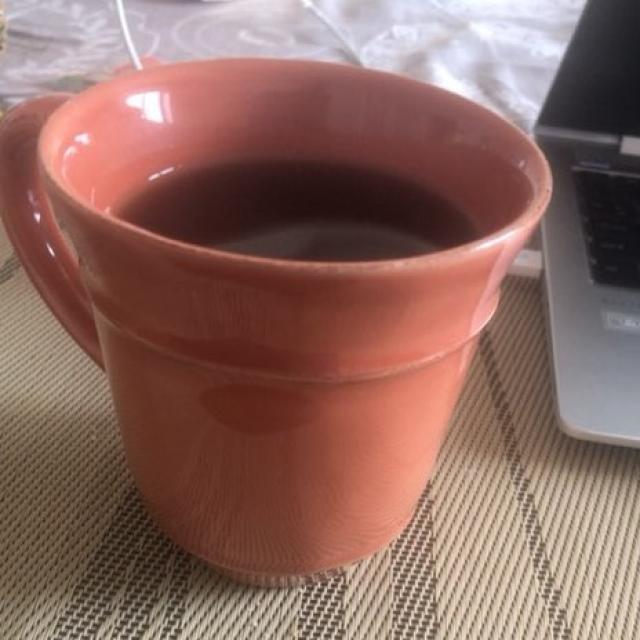tea: (130, 150, 471, 278)
